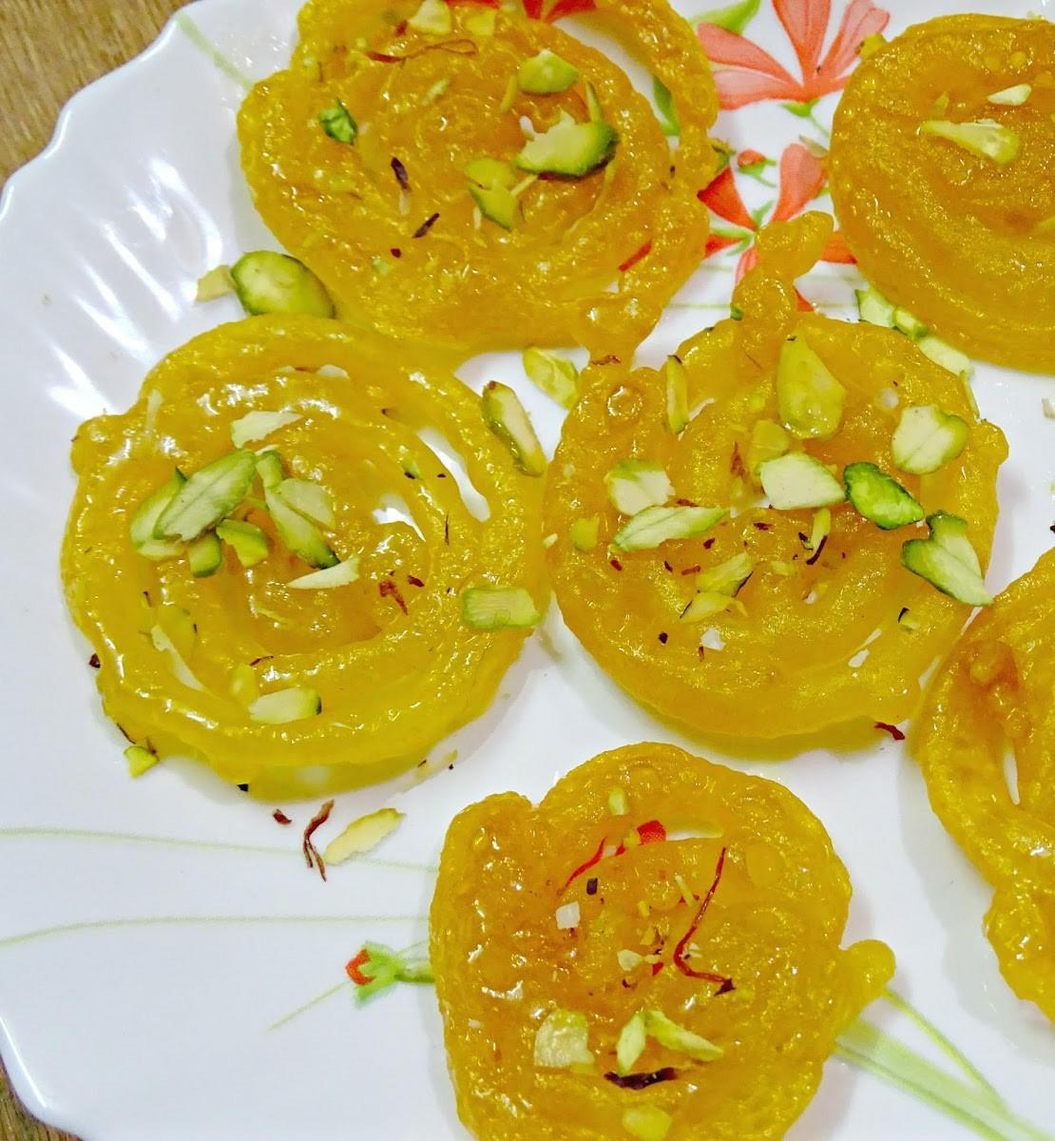Jalebi: (56, 0, 1055, 1141)
